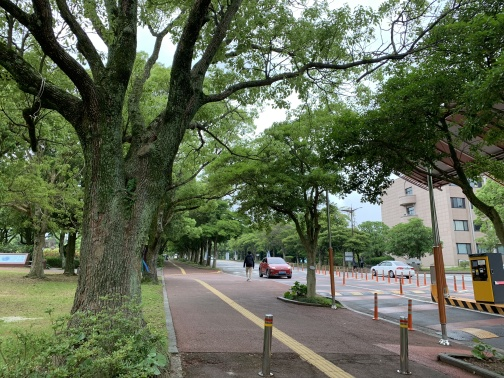Natural Science2: (378, 174, 484, 270)
